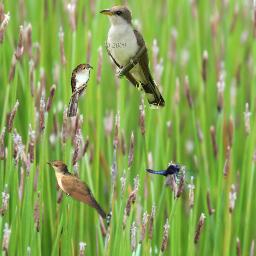Cuckoo: (99, 4, 165, 109), (46, 160, 106, 219), (67, 63, 93, 117)
